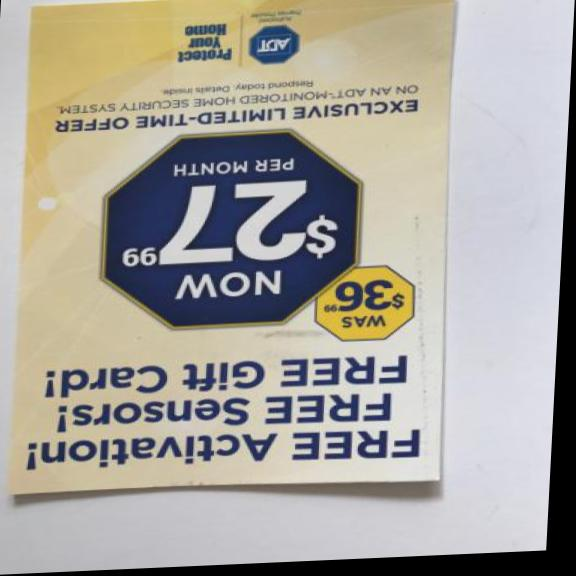Kertas: (0, 0, 486, 512)
